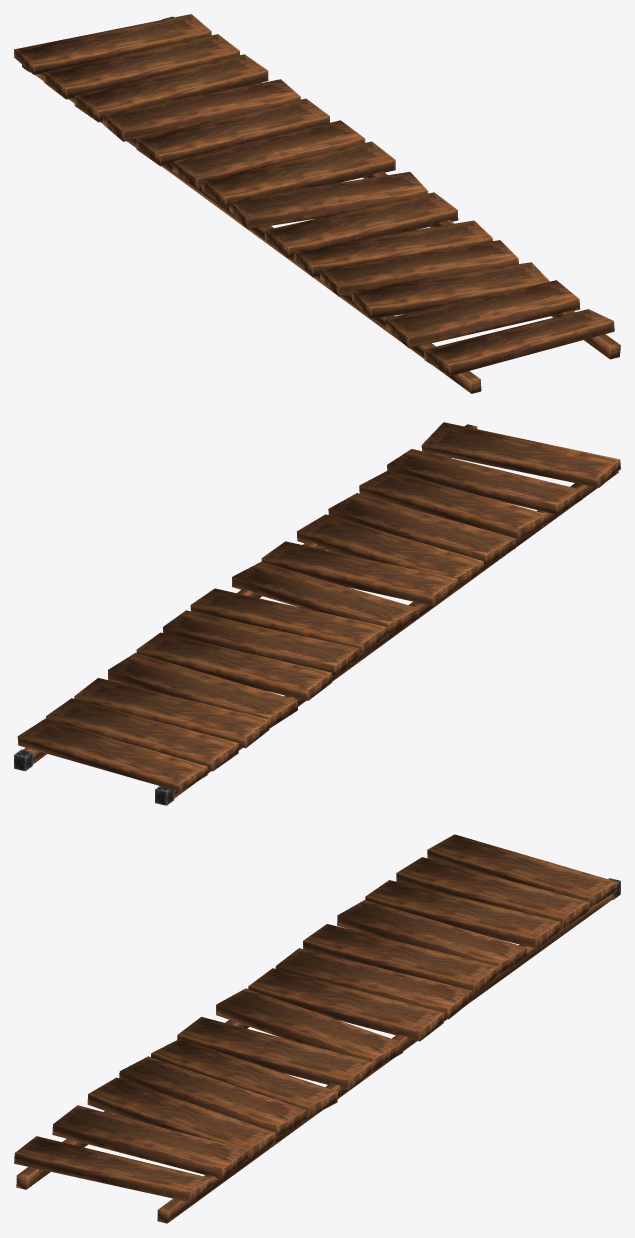
The model's file is INST_SWORDLIGHT_BRIDGEEXTEND_ANI2.fbx.
3 views of the same model, one above another, from view 1: azimuth 30°, elevation 25°; view 2: azimuth 150°, elevation 25°; view 3: azimuth 330°, elevation 25° (orthographic).
Visible parts, largest first — view 1: INST_SWORDLIGHT_BRIDGEEXTEND_ANI2; view 2: INST_SWORDLIGHT_BRIDGEEXTEND_ANI2; view 3: INST_SWORDLIGHT_BRIDGEEXTEND_ANI2.
Boxes of the visible parts, x1=… form: INST_SWORDLIGHT_BRIDGEEXTEND_ANI2: x1=14, y1=14, x2=620, y2=393; INST_SWORDLIGHT_BRIDGEEXTEND_ANI2: x1=14, y1=422, x2=620, y2=805; INST_SWORDLIGHT_BRIDGEEXTEND_ANI2: x1=14, y1=834, x2=620, y2=1223.
Bounding box in the file's own units: 15692 × 2340 × 68620.
Materials: 2 (2 with a texture image).
